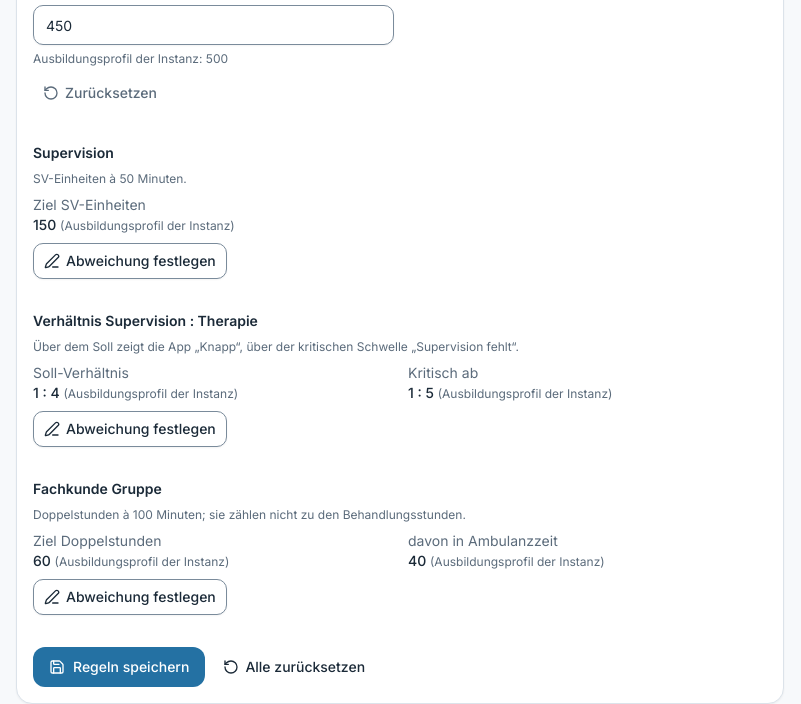
RegelAbweichungenForm › setzt per „Alle zurücksetzen“ alle Abweichungen zurück und meldet das
(page scrolled)
Click the button "Alle zurücksetzen". click: [294, 667]
box: [213, 649, 375, 685]
(page scrolled)
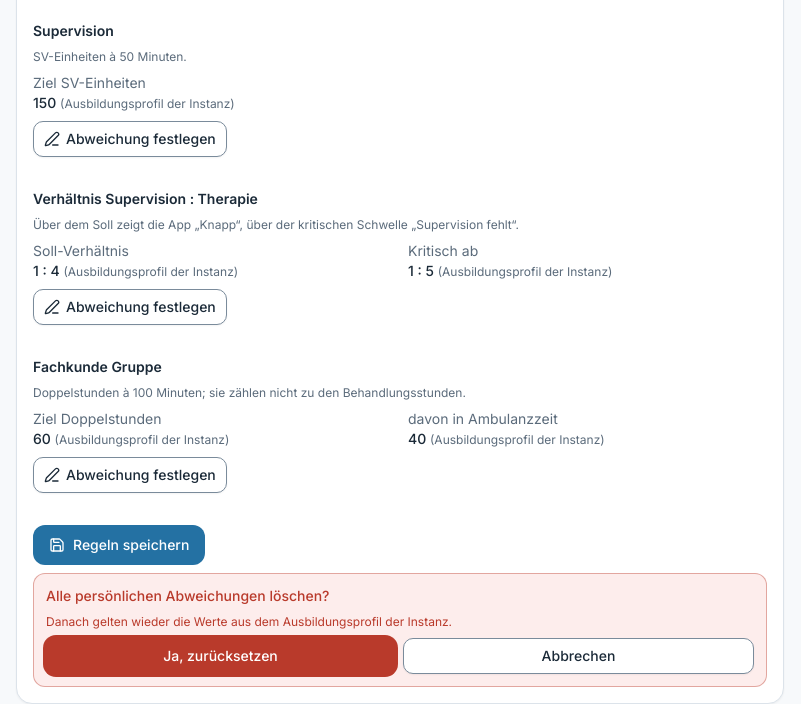
Click the button "Ja, zurücksetzen". click: [220, 656]
box: [46, 638, 395, 674]
(page scrolled)
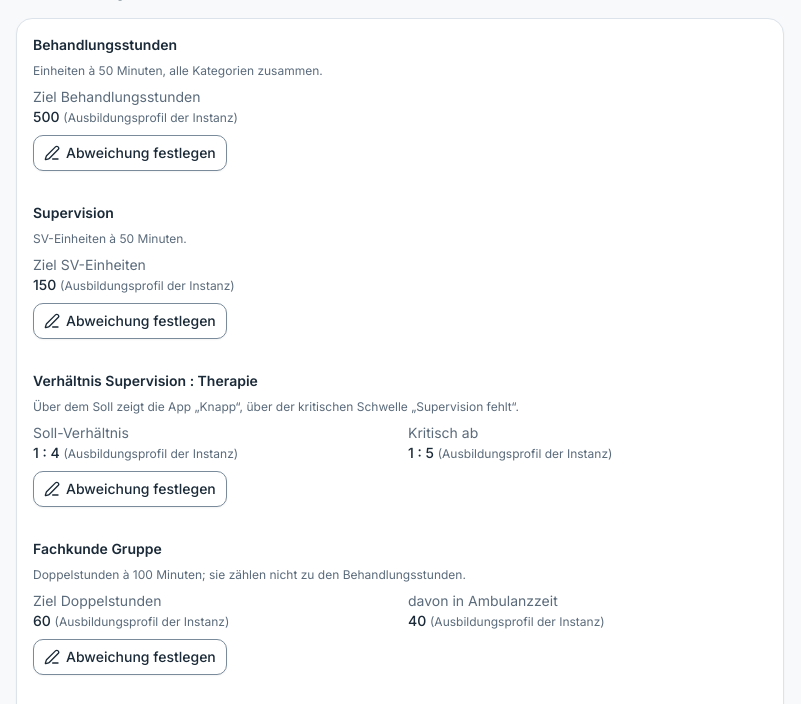
Check: the button "Alle zurücksetzen" is not shown
Check: the element "Behandlungsstunden" shows "500 (Ausbildungsprofil der Instanz)", box [33, 36, 323, 171]
